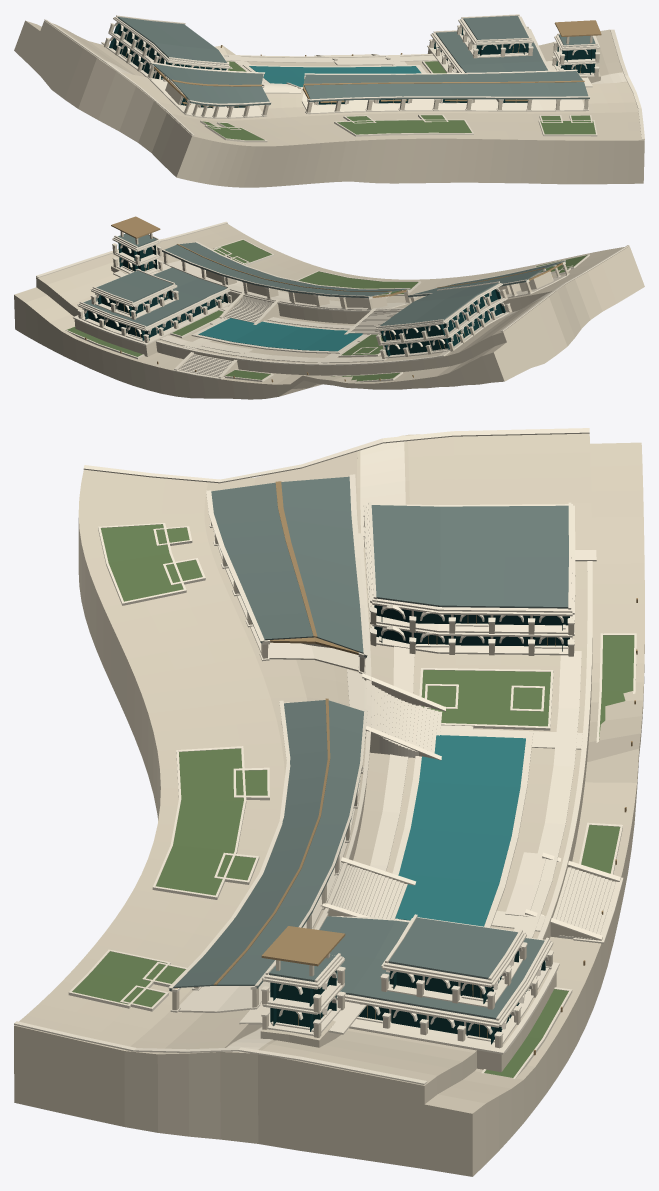
File: oriel-shore-quarter.glb
3 renders of one model, top to bottom at view 1: azimuth 30°, elevation 25°; view 2: azimuth 150°, elevation 25°; view 3: azimuth 270°, elevation 25°, orthographic. The views are drawn at different scales.
Parts seen in each view (by area): view 1: shoreQuarter__warm_limestone, shoreQuarter__muted_formed_metal_roofs, shoreQuarter__pale_honed_coping, shoreQuarter__blue-green_glazing_and_channel, shoreQuarter__deep_planted_garden_soil, shoreQuarter__bronze_public_fittings; view 2: shoreQuarter__warm_limestone, shoreQuarter__pale_honed_coping, shoreQuarter__muted_formed_metal_roofs, shoreQuarter__blue-green_glazing_and_channel, shoreQuarter__deep_planted_garden_soil, shoreQuarter__bronze_public_fittings; view 3: shoreQuarter__warm_limestone, shoreQuarter__pale_honed_coping, shoreQuarter__muted_formed_metal_roofs, shoreQuarter__deep_planted_garden_soil, shoreQuarter__blue-green_glazing_and_channel, shoreQuarter__bronze_public_fittings.
Boxes of the visible parts, x1,y1,x2,y2 form: shoreQuarter__warm_limestone: (14, 20, 644, 187); shoreQuarter__muted_formed_metal_roofs: (117, 16, 595, 106); shoreQuarter__pale_honed_coping: (44, 14, 644, 142); shoreQuarter__blue-green_glazing_and_channel: (109, 23, 595, 107); shoreQuarter__deep_planted_garden_soil: (202, 61, 595, 140); shoreQuarter__bronze_public_fittings: (125, 20, 601, 107); shoreQuarter__warm_limestone: (14, 223, 644, 399); shoreQuarter__pale_honed_coping: (36, 221, 629, 384); shoreQuarter__muted_formed_metal_roofs: (83, 233, 565, 327); shoreQuarter__blue-green_glazing_and_channel: (84, 243, 505, 356); shoreQuarter__deep_planted_garden_soil: (67, 240, 587, 381); shoreQuarter__bronze_public_fittings: (85, 216, 563, 382); shoreQuarter__warm_limestone: (14, 433, 644, 1176); shoreQuarter__pale_honed_coping: (14, 428, 636, 1084); shoreQuarter__muted_formed_metal_roofs: (169, 476, 568, 1019); shoreQuarter__deep_planted_garden_soil: (72, 524, 634, 1077); shoreQuarter__blue-green_glazing_and_channel: (270, 605, 569, 1044); shoreQuarter__bronze_public_fittings: (175, 481, 637, 1055).
Size of the model in its own units: 444 by 120 by 242.
